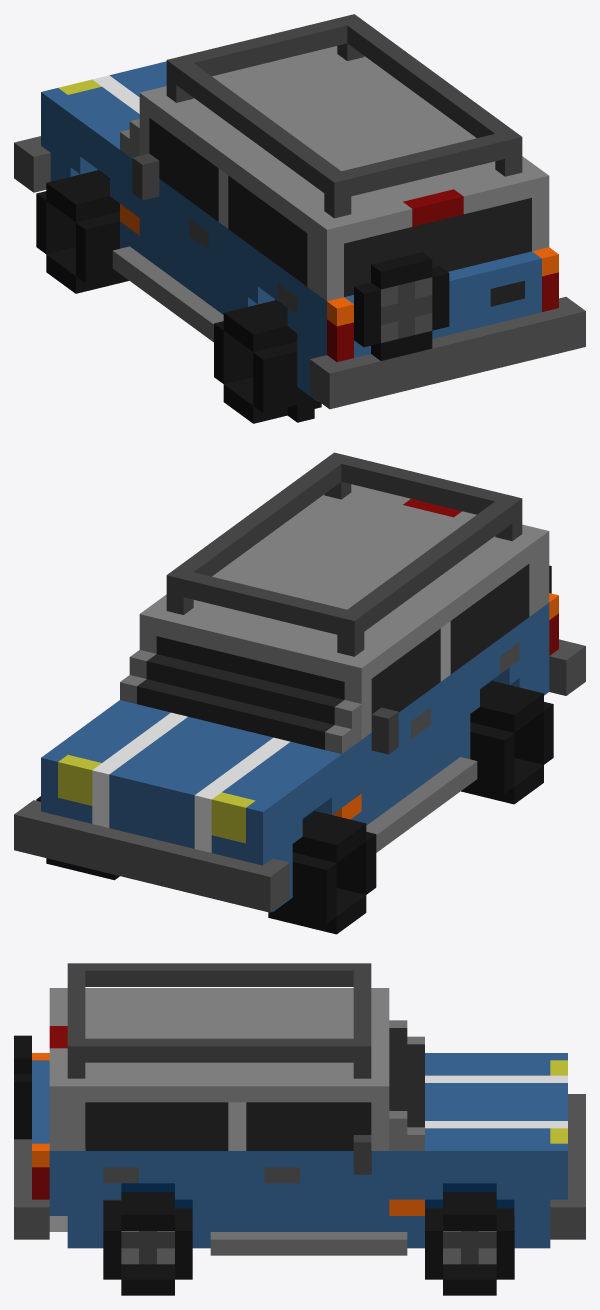
The model's file is car_13.glb.
3 views of the same model, one above another, from view 1: azimuth 30°, elevation 25°; view 2: azimuth 150°, elevation 25°; view 3: azimuth 270°, elevation 25° (orthographic). The views are drawn at different scales.
Parts seen in each view (by area): view 1: ObjObject; view 2: ObjObject; view 3: ObjObject.
Boxes of the visible parts, x1,y1,x2,y2 form: ObjObject: (14,14,585,423); ObjObject: (14,452,585,934); ObjObject: (14,963,585,1295).
Size of the model in its own units: 1.7 by 1.4 by 3.2.
Materials: 1 (1 with a texture image).
